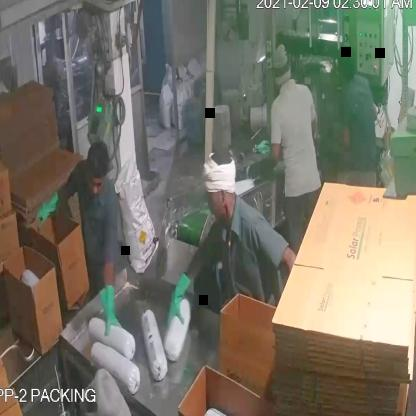glove: (152, 265, 198, 337), (90, 276, 130, 340), (31, 193, 68, 228)
